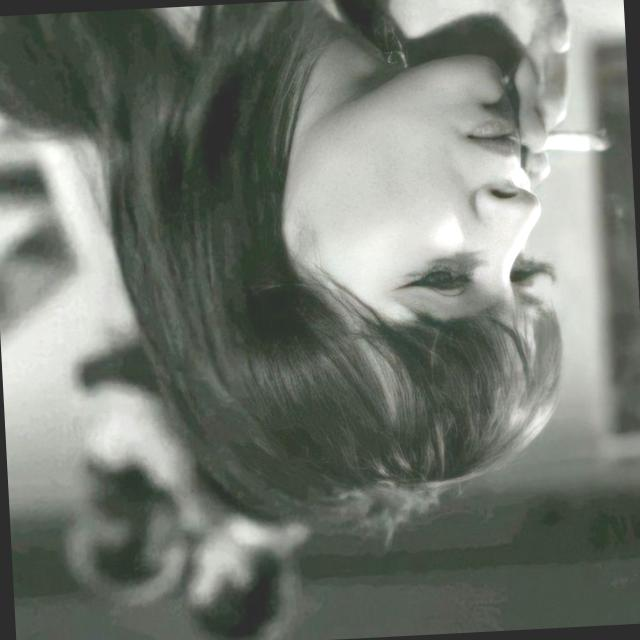cigarette: (490, 106, 618, 182)
